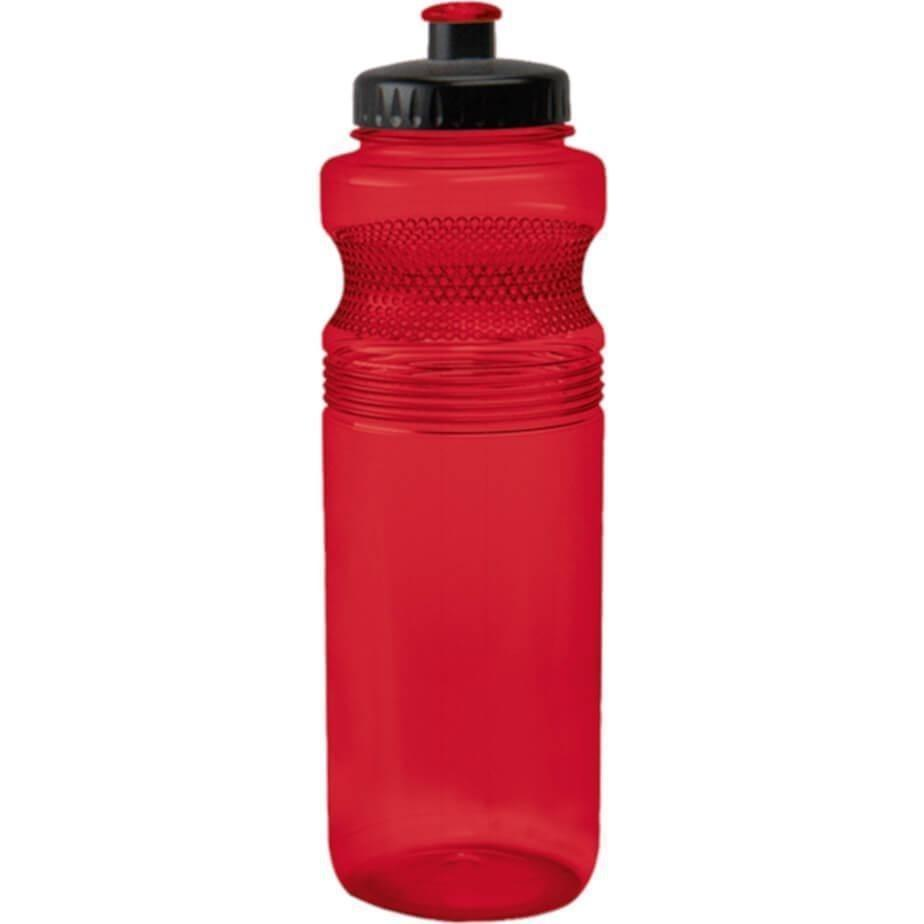gym bottle: (313, 0, 614, 923)
